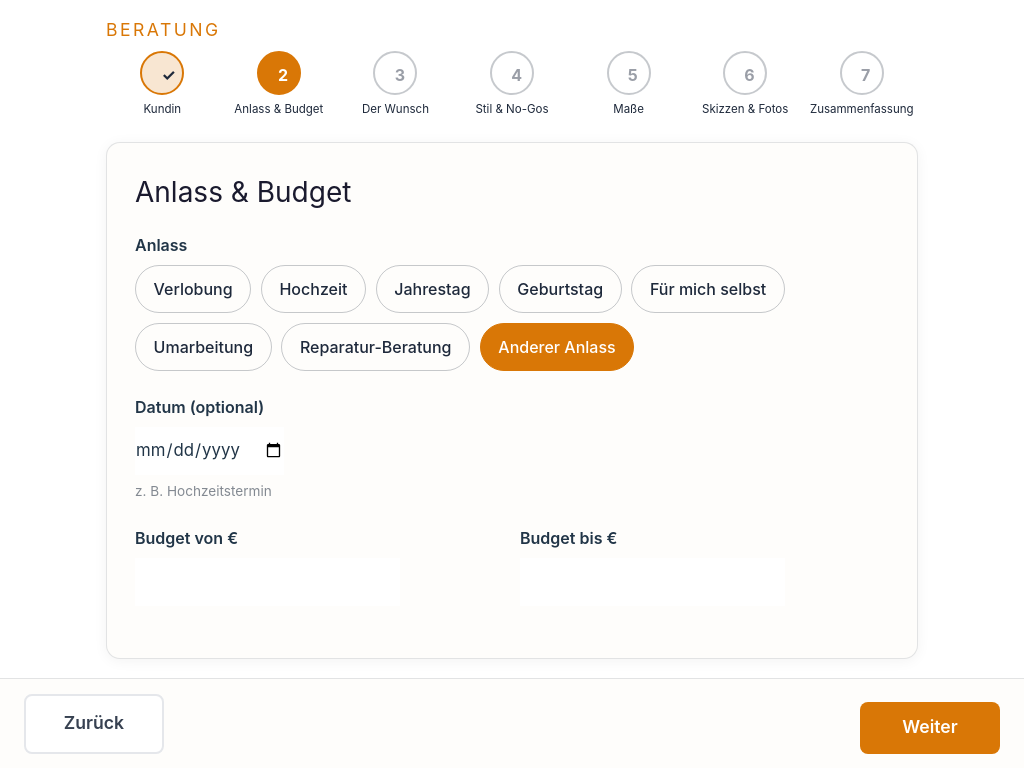
it: ConsultationWizardPage › saves a valid, non-empty pendingPatch before a backward progress-dot jump (not discarded)
This screenshot has width=1024, height=768.
Expected: the heading "Anlass & Budget" is shown, [135,175,351,209]
What coordinates should you click on to do the following:
click the radio button labelled "Hochzeit"
I would click on:
 (313, 289)
Its box is [261,265,366,313].
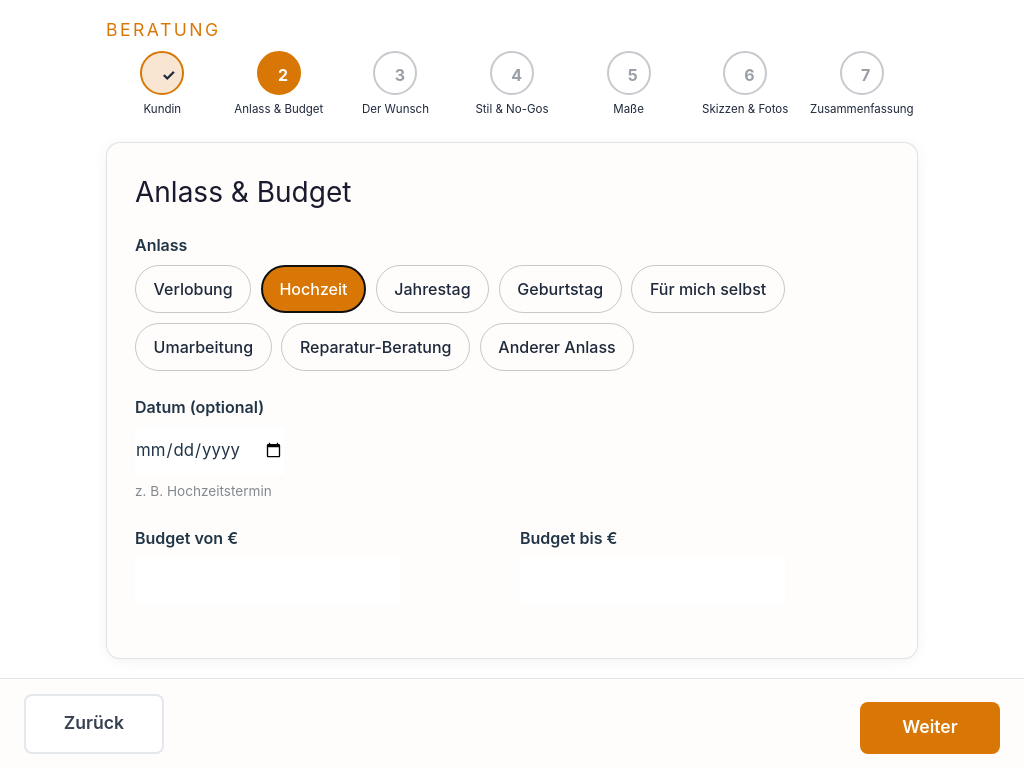
What coordinates should you click on to do the following:
click the button named "Schritt 1: Kundin"
I would click on:
 (162, 73)
Its box is [140,51,184,95].
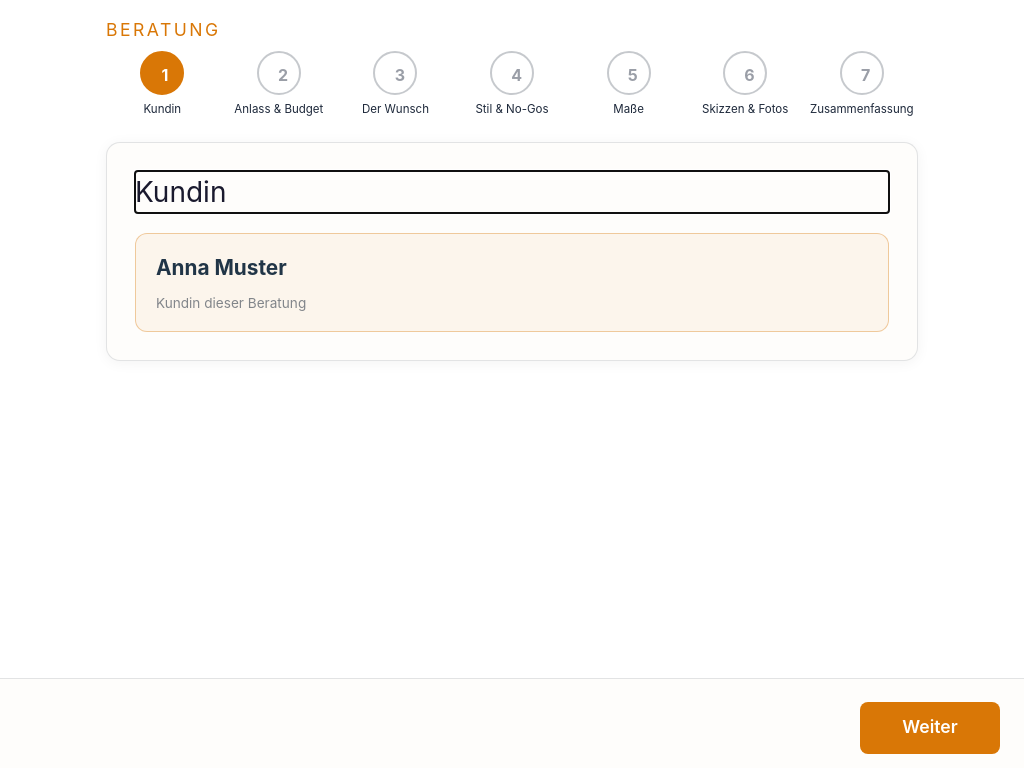
Now the heading "Kundin" is shown, box [135,175,226,209]
